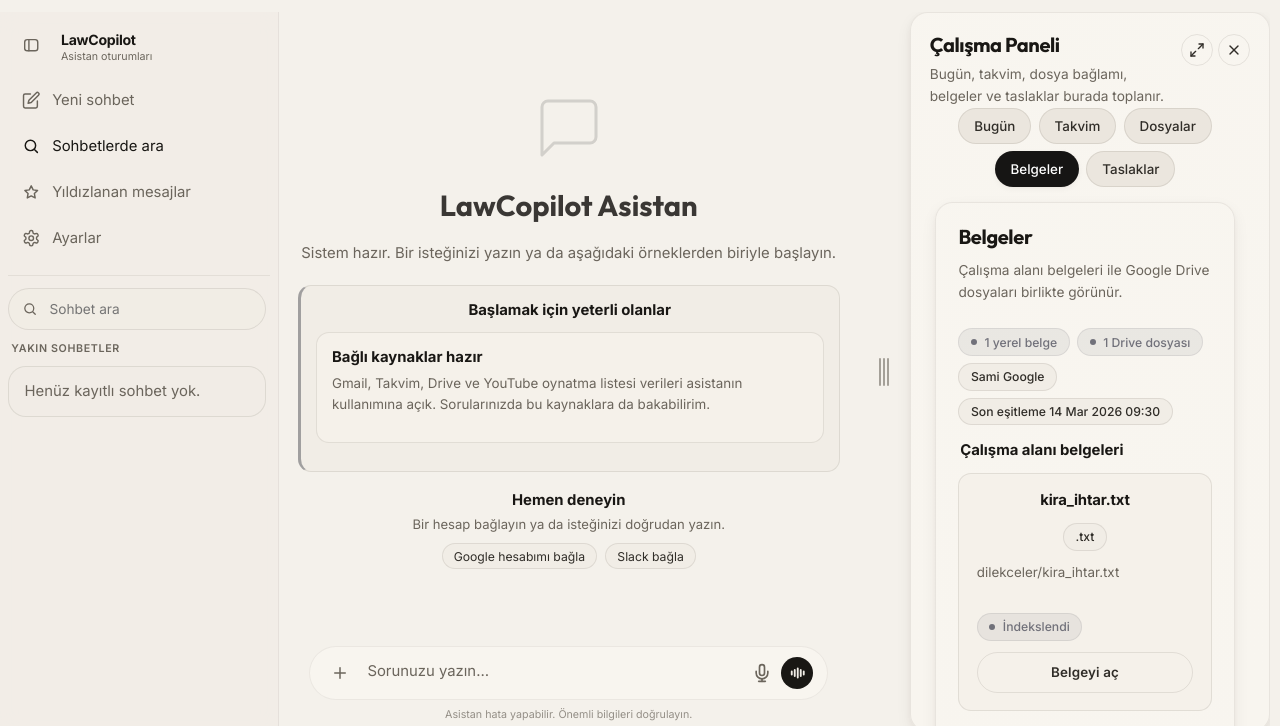
Test: AssistantPage › shows Google Drive files together with workspace documents in the documents drawer
Expected: the text "kira_ihtar.txt" is shown, 1040,490 -> 1130,512
Expected: the text "İndekslendi" is shown, 977,613 -> 1082,641
Click the button "Belgeyi aç": (1085, 672) 977,652 -> 1193,693
(page scrolled)
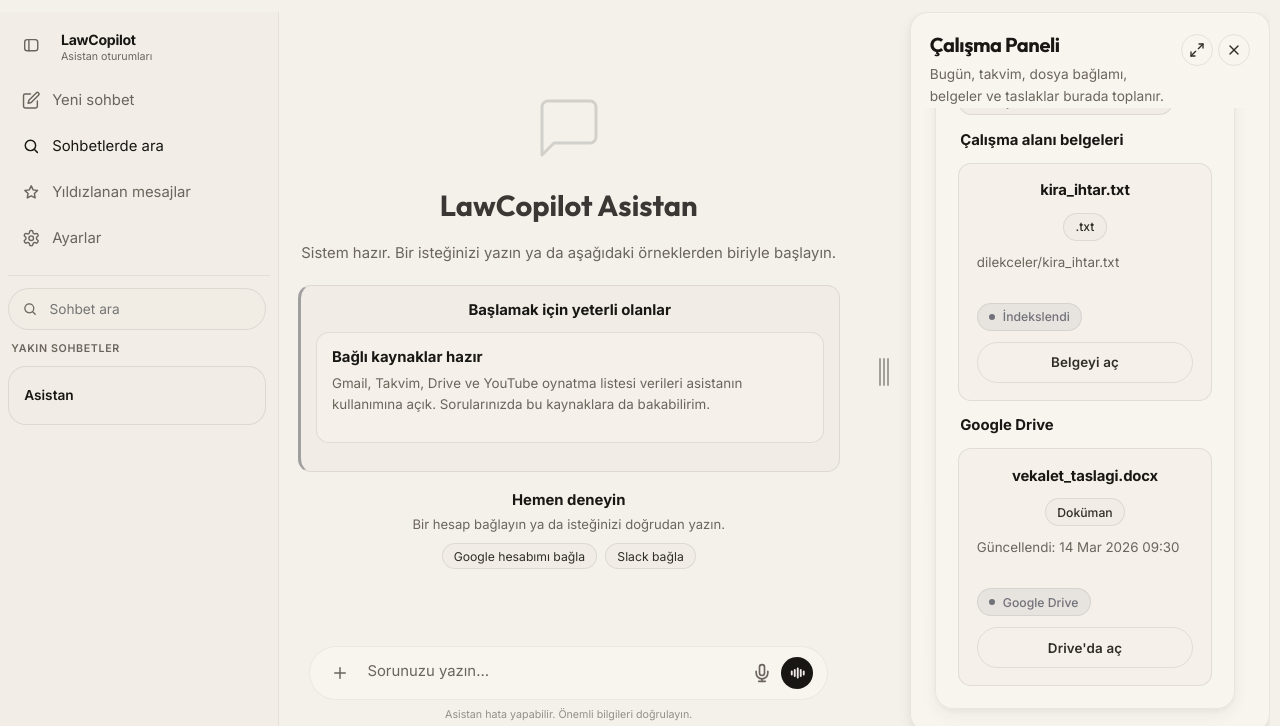
Result: the link "Drive'da aç" is shown at 977,627 -> 1193,668
